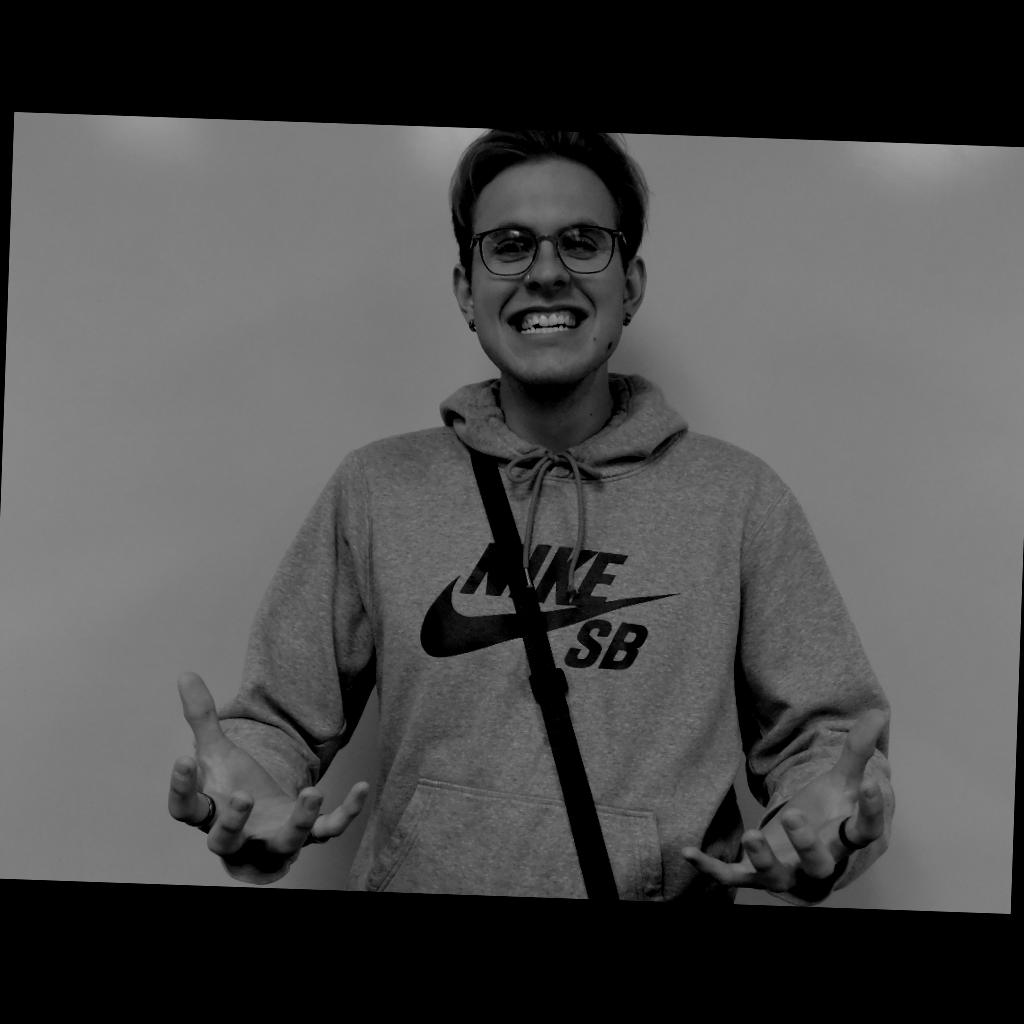want: (166, 670, 892, 897)
